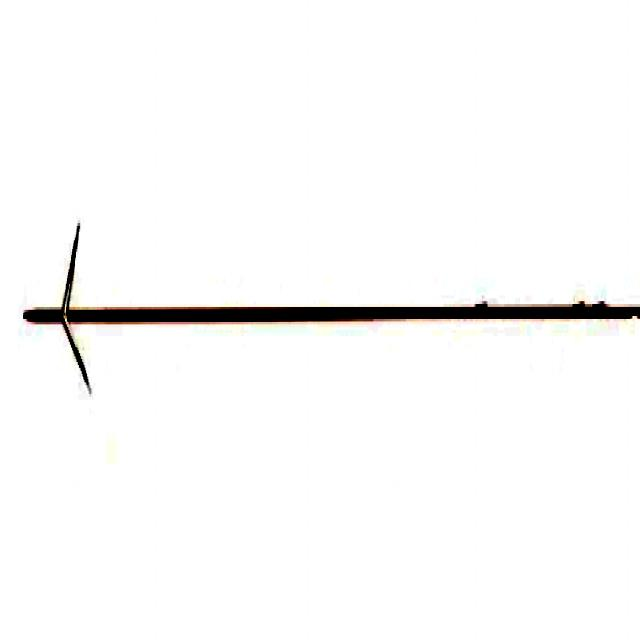spear: (12, 181, 638, 402)
